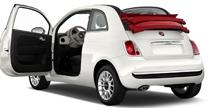back_view: (122, 35, 207, 94)
backlight: (122, 40, 154, 65)
